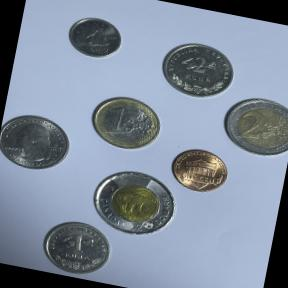coin: (86, 164, 182, 243), (152, 32, 242, 106), (81, 88, 170, 158), (0, 103, 79, 179), (213, 89, 288, 165), (166, 142, 235, 198), (61, 9, 127, 65)
